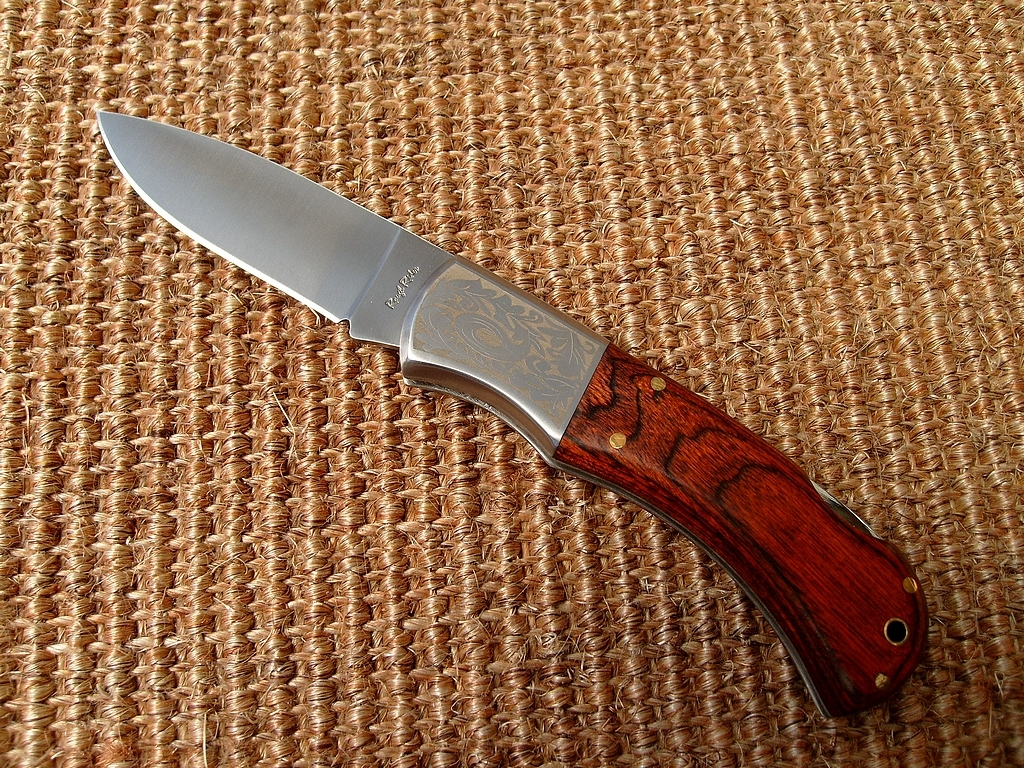knife: (95, 110, 927, 720)
